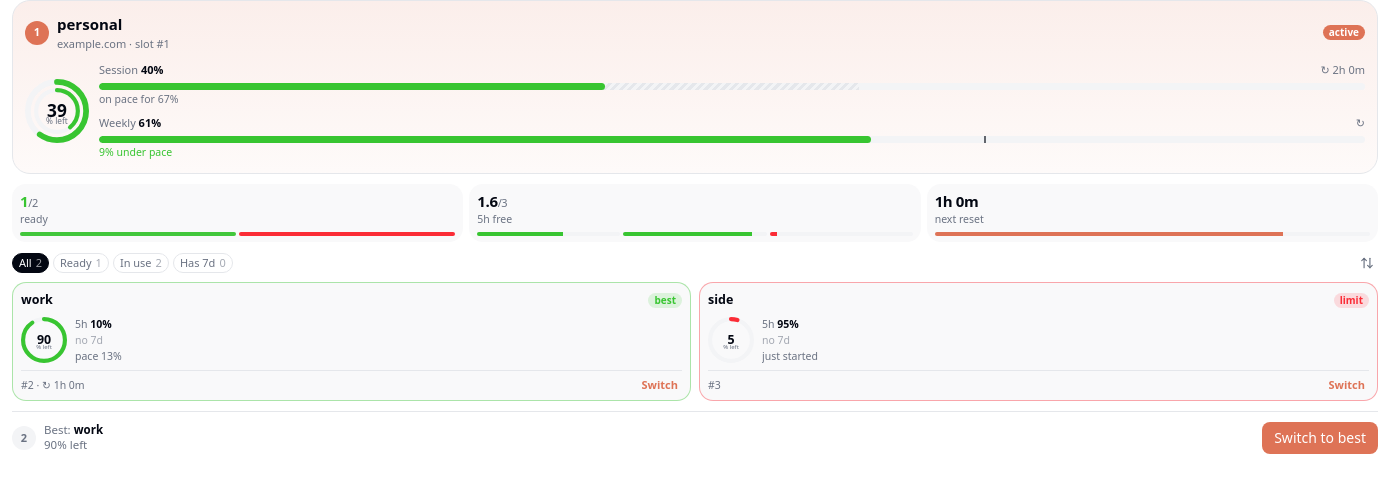
Test case: AccountList › shows the error when a switch fails and doesn't refresh
The image size is (1390, 495).
Click the button with aria-label "Switch to side" at (1347, 386), box x1=1324 y1=375 x2=1369 y2=396
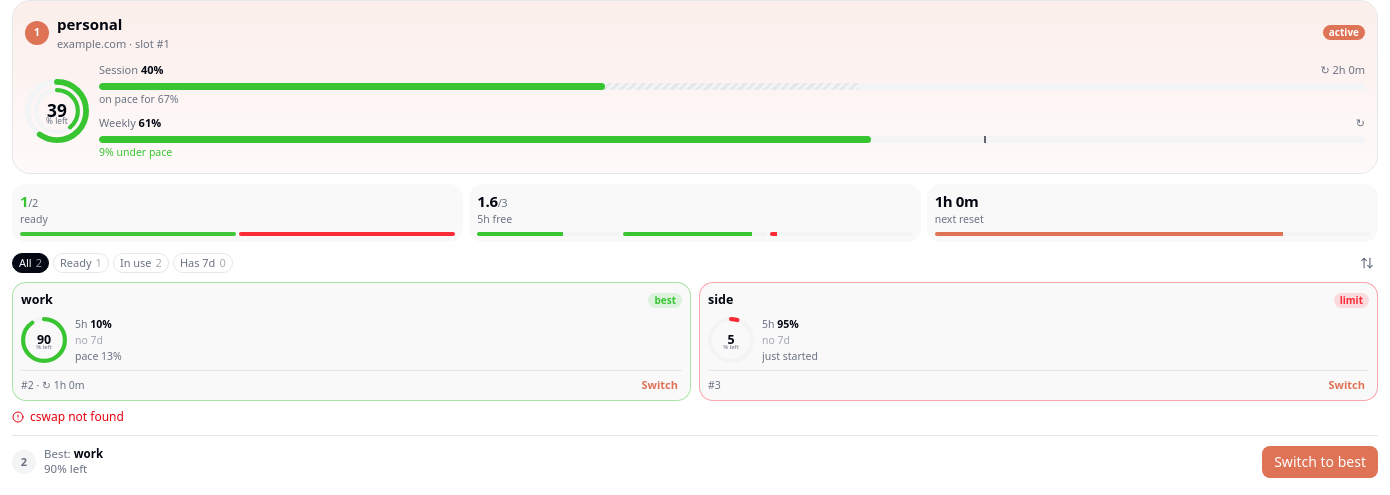
Expected: the text "cswap not found" is shown, x1=30 y1=409 x2=124 y2=425
